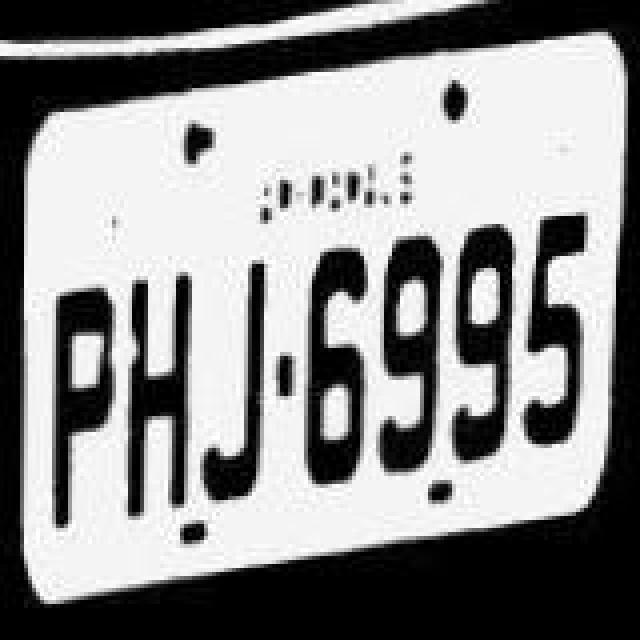5: (522, 208, 598, 452)
6: (300, 242, 372, 494)
9: (372, 236, 444, 476), (454, 226, 522, 466)
H: (120, 266, 200, 514)
J: (196, 260, 276, 504)
P: (46, 282, 122, 530)
